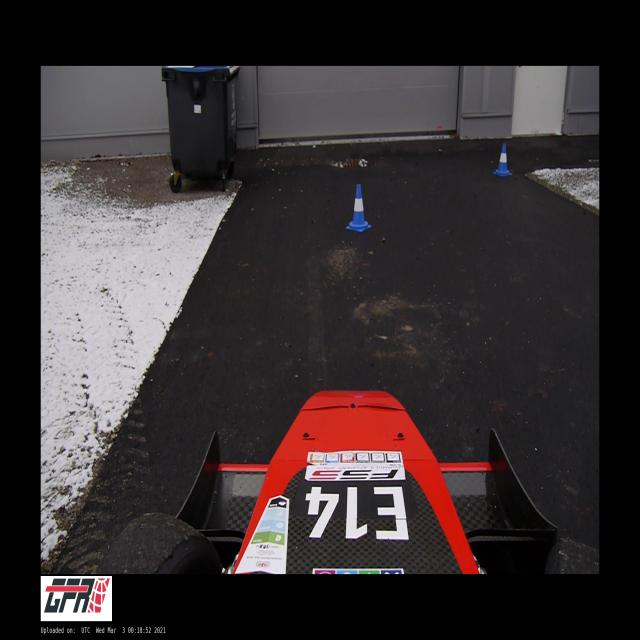blue_cone: (346, 184, 371, 232), (494, 143, 512, 176)
